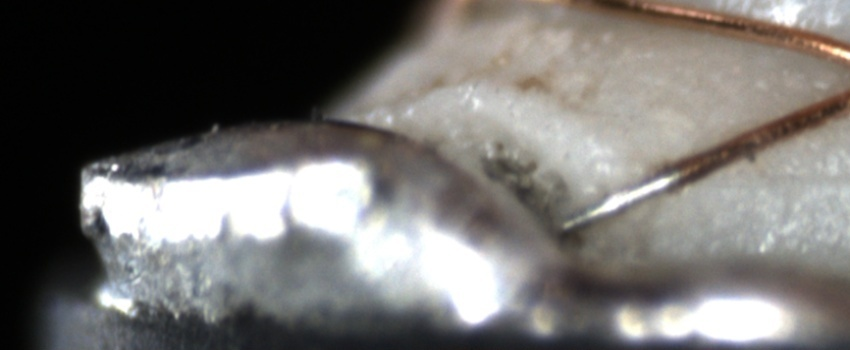DL: (696, 148, 849, 212)
TS: (558, 169, 682, 232)
TTCW: (558, 142, 744, 233)
